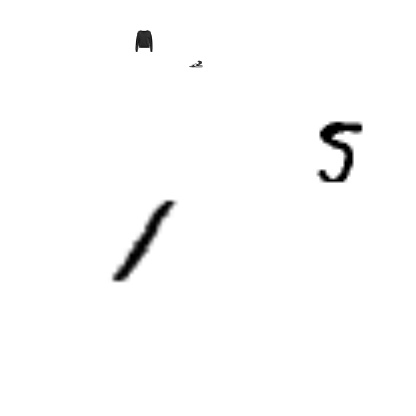1: (85, 185, 197, 297)
5: (296, 104, 380, 188)
Pullover: (133, 30, 155, 52)
Sandal: (189, 57, 203, 71)
